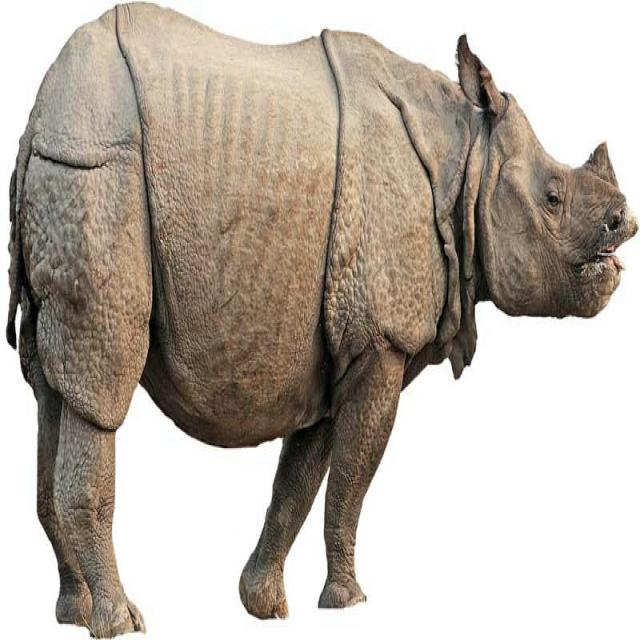rhinoceros: (7, 3, 638, 636)
